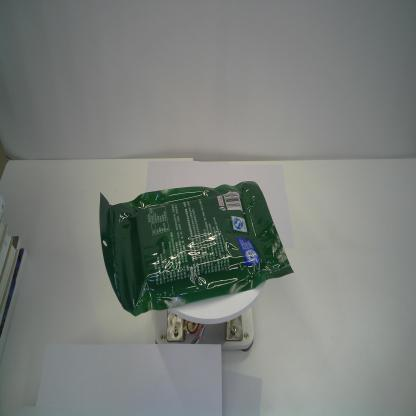Dried Food: (98, 179, 295, 319)
